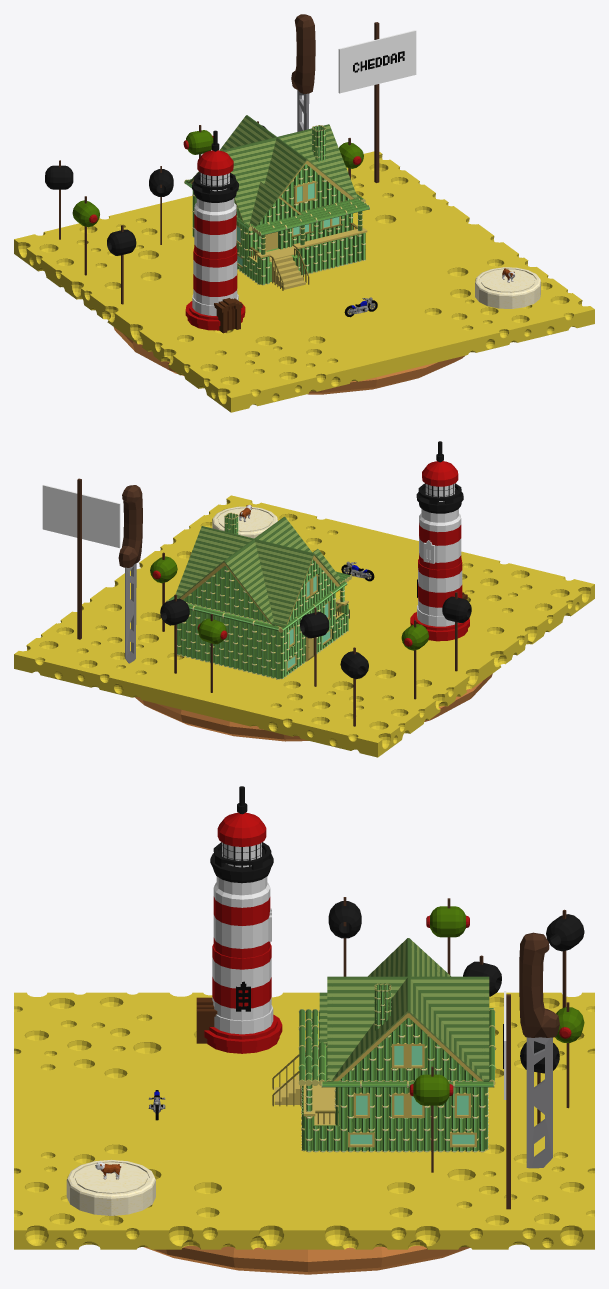
3 renders of one model, top to bottom at view 1: azimuth 30°, elevation 25°; view 2: azimuth 150°, elevation 25°; view 3: azimuth 270°, elevation 25°, orthographic. The views are drawn at different scales.
Parts seen in each view (by area): view 1: Cube.022, Cube.1327, OBJRANDOM_LIGHTHOUSE, Cube.023, Cylinder.016, Cube.024, UNDERGROUND_PIZZA, Sphere.017, Sphere.016, Sphere.018, Sphere.020, Sphere.022 (+1 smaller); view 2: Cube.022, Cube.1327, OBJRANDOM_LIGHTHOUSE, Cube.023, Cube.024, UNDERGROUND_PIZZA, Cylinder.016, Sphere.017, Sphere.020, Sphere.021, Sphere.022, Sphere.016 (+2 smaller); view 3: Cube.022, Cube.1327, OBJRANDOM_LIGHTHOUSE, Cube.024, UNDERGROUND_PIZZA, Cylinder.016, Sphere.016, Sphere.019, Cube.023, Sphere.018, Sphere.017, Sphere.022 (+1 smaller).
Boxes of the visible parts, bbox=[...] form: Cube.022: bbox=[14, 151, 594, 412]; Cube.1327: bbox=[184, 115, 369, 290]; OBJRANDOM_LIGHTHOUSE: bbox=[185, 130, 245, 333]; Cube.023: bbox=[338, 22, 416, 182]; Cylinder.016: bbox=[475, 267, 540, 308]; Cube.024: bbox=[291, 14, 315, 131]; UNDERGROUND_PIZZA: bbox=[113, 327, 464, 394]; Sphere.017: bbox=[107, 225, 136, 304]; Sphere.016: bbox=[45, 160, 73, 239]; Sphere.018: bbox=[72, 196, 99, 275]; Sphere.020: bbox=[149, 166, 173, 244]; Sphere.022: bbox=[183, 125, 213, 157]; Cube.022: bbox=[14, 495, 594, 757]; Cube.1327: bbox=[166, 512, 352, 679]; OBJRANDOM_LIGHTHOUSE: bbox=[410, 441, 469, 641]; Cube.023: bbox=[42, 478, 120, 639]; Cube.024: bbox=[118, 485, 142, 663]; UNDERGROUND_PIZZA: bbox=[135, 673, 492, 741]; Cylinder.016: bbox=[212, 506, 277, 538]; Sphere.017: bbox=[442, 592, 471, 671]; Sphere.020: bbox=[300, 607, 329, 686]; Sphere.021: bbox=[160, 594, 189, 673]; Sphere.022: bbox=[197, 614, 227, 692]; Sphere.016: bbox=[340, 647, 368, 726]; Cube.022: bbox=[14, 992, 594, 1249]; Cube.1327: bbox=[272, 938, 495, 1152]; OBJRANDOM_LIGHTHOUSE: bbox=[196, 786, 282, 1053]; Cube.024: bbox=[519, 932, 559, 1168]; UNDERGROUND_PIZZA: bbox=[144, 1245, 469, 1274]; Cylinder.016: bbox=[66, 1159, 155, 1215]; Sphere.016: bbox=[546, 909, 584, 1007]; Sphere.019: bbox=[409, 1066, 453, 1172]; Cube.023: bbox=[503, 991, 510, 1209]; Sphere.018: bbox=[426, 898, 469, 974]; Sphere.017: bbox=[328, 897, 361, 976]; Sphere.022: bbox=[555, 1002, 584, 1108].
Size of the model in its own units: 3917 by 2343 by 4000.
41 materials, 4 textured.
